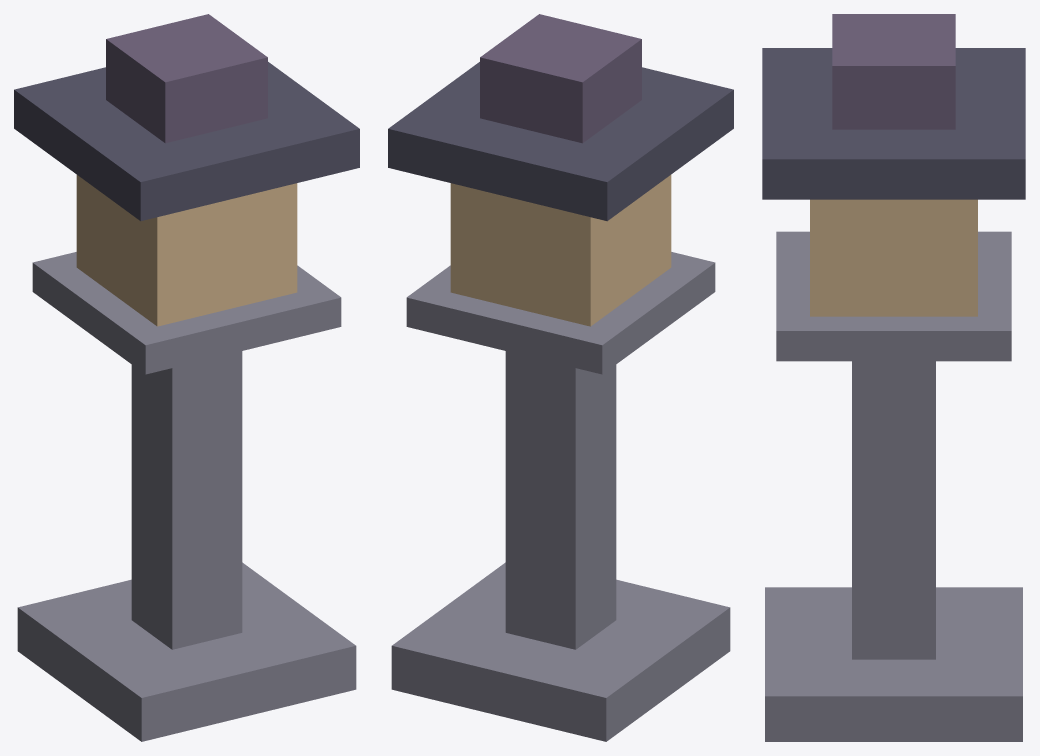
Rendered from shrine_stone_lantern.glb.
3 views of the same model, side by side, from view 1: azimuth 30°, elevation 25°; view 2: azimuth 150°, elevation 25°; view 3: azimuth 270°, elevation 25° (orthographic). The views are drawn at different scales.
Visible parts, largest first — view 1: shrine_stone_lantern_00, shrine_stone_lantern_01, shrine_stone_lantern_04, shrine_stone_lantern_03, shrine_stone_lantern_05, shrine_stone_lantern_02; view 2: shrine_stone_lantern_00, shrine_stone_lantern_01, shrine_stone_lantern_04, shrine_stone_lantern_03, shrine_stone_lantern_05, shrine_stone_lantern_02; view 3: shrine_stone_lantern_00, shrine_stone_lantern_04, shrine_stone_lantern_01, shrine_stone_lantern_03, shrine_stone_lantern_02, shrine_stone_lantern_05.
Boxes of the visible parts, <box> form: shrine_stone_lantern_00: <box>17,562,356,741</box>; shrine_stone_lantern_01: <box>131,351,242,649</box>; shrine_stone_lantern_04: <box>14,62,359,221</box>; shrine_stone_lantern_03: <box>76,175,297,326</box>; shrine_stone_lantern_05: <box>106,14,267,143</box>; shrine_stone_lantern_02: <box>32,252,341,374</box>; shrine_stone_lantern_00: <box>391,562,730,741</box>; shrine_stone_lantern_01: <box>505,351,616,649</box>; shrine_stone_lantern_04: <box>388,62,733,221</box>; shrine_stone_lantern_03: <box>450,175,671,326</box>; shrine_stone_lantern_05: <box>480,14,641,143</box>; shrine_stone_lantern_02: <box>406,252,715,374</box>; shrine_stone_lantern_00: <box>765,587,1022,741</box>; shrine_stone_lantern_04: <box>762,48,1025,199</box>; shrine_stone_lantern_01: <box>852,361,935,659</box>; shrine_stone_lantern_03: <box>810,199,977,316</box>; shrine_stone_lantern_02: <box>776,231,1011,361</box>; shrine_stone_lantern_05: <box>832,14,955,129</box>.
Size of the model in its own units: 2.35 by 6.38 by 2.35.
